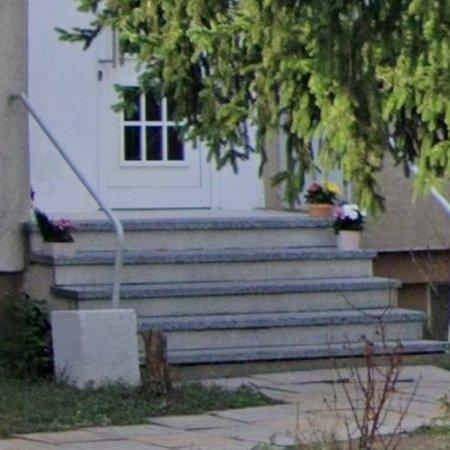stairs: (120, 212, 450, 382), (24, 220, 114, 310)
